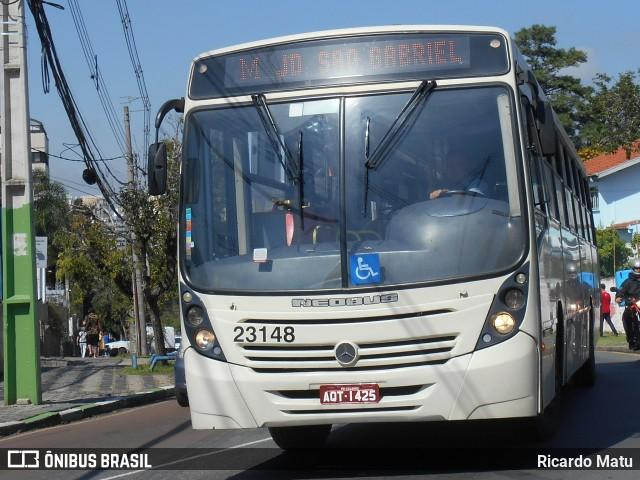JD SAO GABRIEL: (271, 37, 466, 80)
